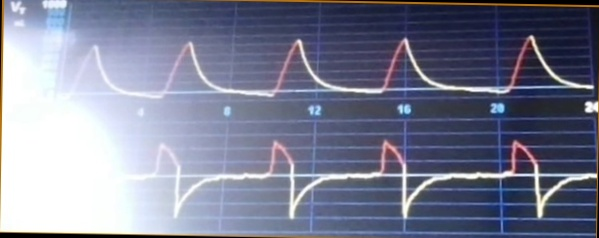Normal Flow: (124, 134, 595, 228)
Normal Volume: (65, 27, 596, 102)
